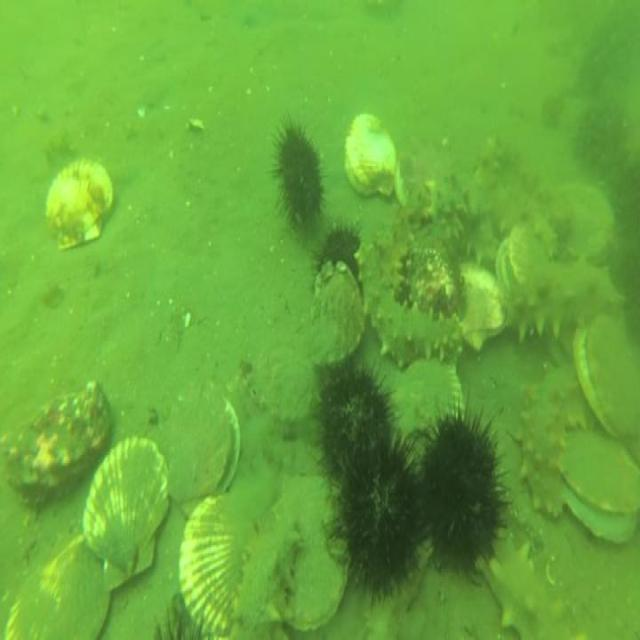echinus: (418, 406, 508, 580), (332, 430, 424, 597), (314, 358, 394, 484), (270, 119, 326, 238), (313, 220, 363, 290)
holothurian: (352, 238, 461, 369), (227, 491, 305, 640), (485, 537, 585, 640), (515, 359, 576, 520), (506, 272, 610, 344), (526, 168, 572, 244), (380, 208, 412, 298), (449, 215, 499, 269), (527, 200, 562, 260)
scallop: (81, 433, 171, 593), (1, 521, 115, 640), (276, 471, 352, 629), (162, 381, 242, 521), (561, 428, 639, 548), (178, 494, 242, 640), (573, 316, 640, 444), (42, 153, 116, 256), (386, 359, 468, 433), (340, 108, 401, 200), (566, 182, 616, 270), (461, 264, 507, 355), (494, 218, 524, 294)
